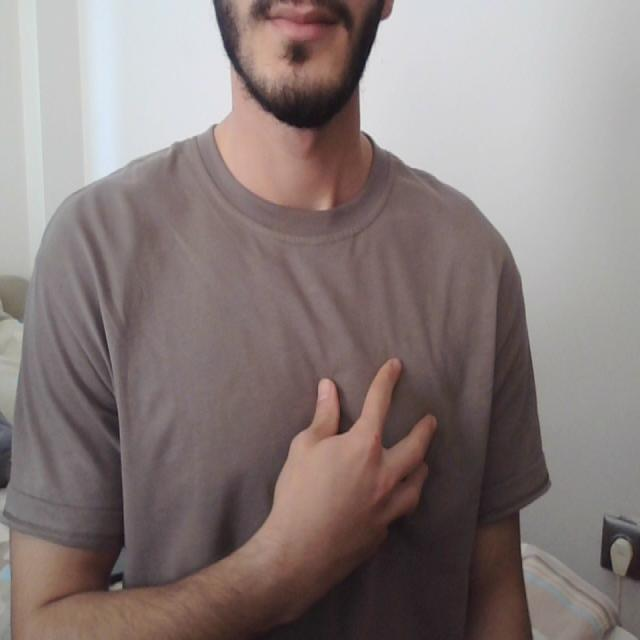Anne: (106, 347, 510, 582)
